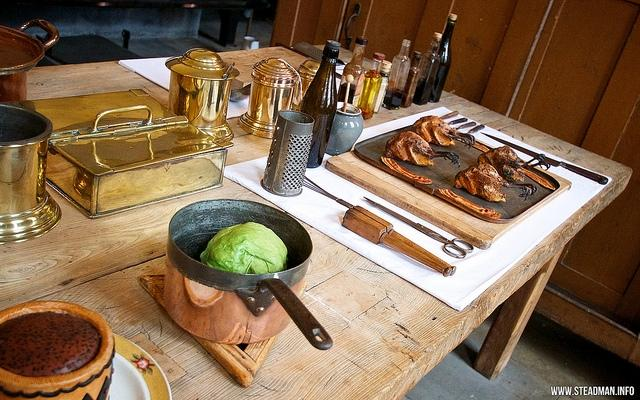lettuce: (200, 222, 288, 274)
